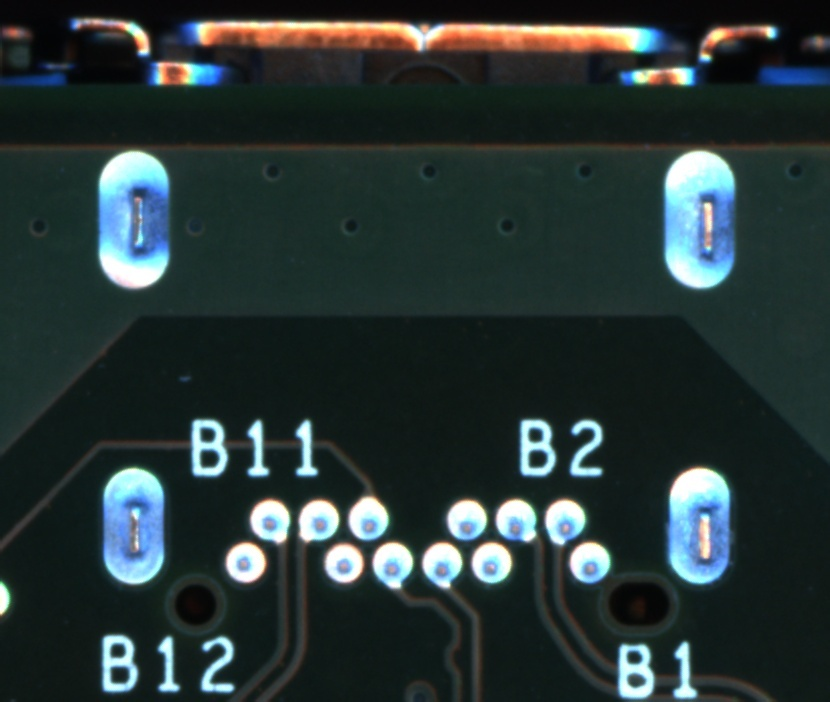SOLDER: (223, 539, 269, 586), (321, 541, 367, 588), (371, 542, 417, 589), (419, 542, 465, 589), (443, 495, 489, 542), (295, 497, 341, 544), (247, 497, 293, 544), (566, 540, 612, 586), (468, 540, 514, 586), (542, 496, 588, 542), (492, 496, 538, 542), (345, 496, 390, 542)
SOLDER2: (85, 434, 181, 604), (649, 441, 745, 611), (650, 137, 746, 307), (83, 138, 179, 308)
